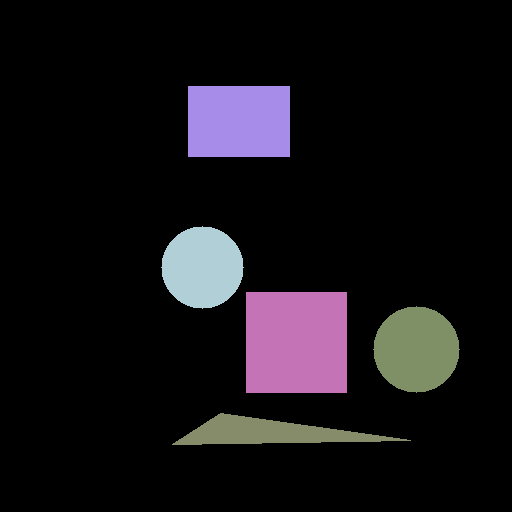circle: (373, 306, 459, 392), (161, 226, 243, 308)
rectangle: (188, 86, 289, 156)
square: (246, 292, 346, 392)
triangle: (172, 413, 410, 444)
